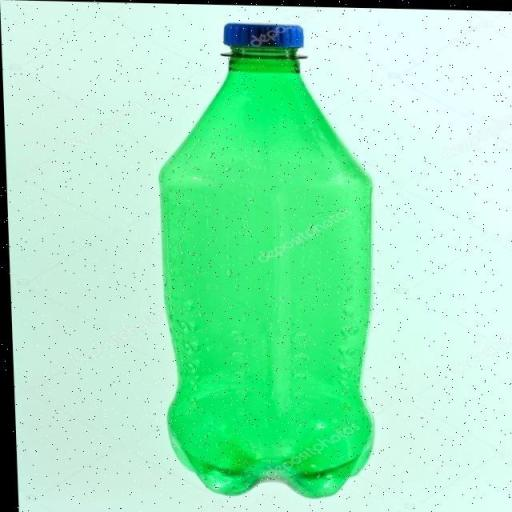plastic: (136, 14, 384, 506)
